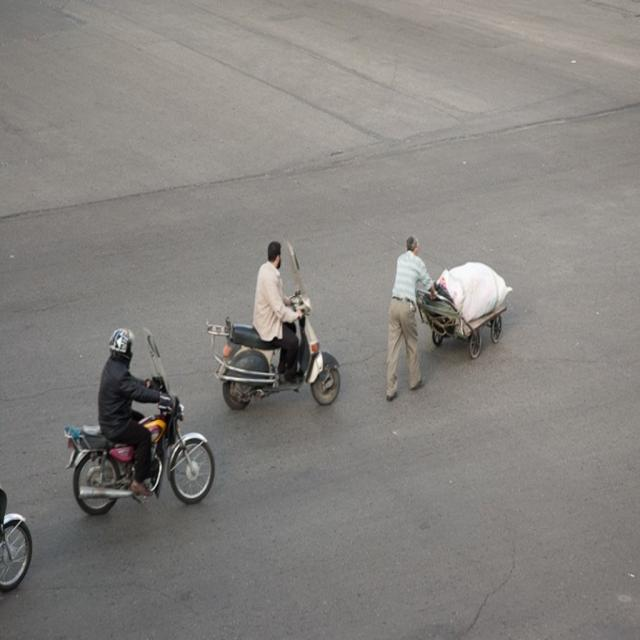Motorbikes: (65, 410, 218, 518), (216, 304, 342, 418)
